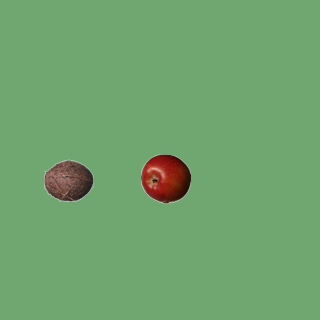Apple Braeburn: (140, 153, 190, 203)
Cocos: (43, 155, 93, 205)
